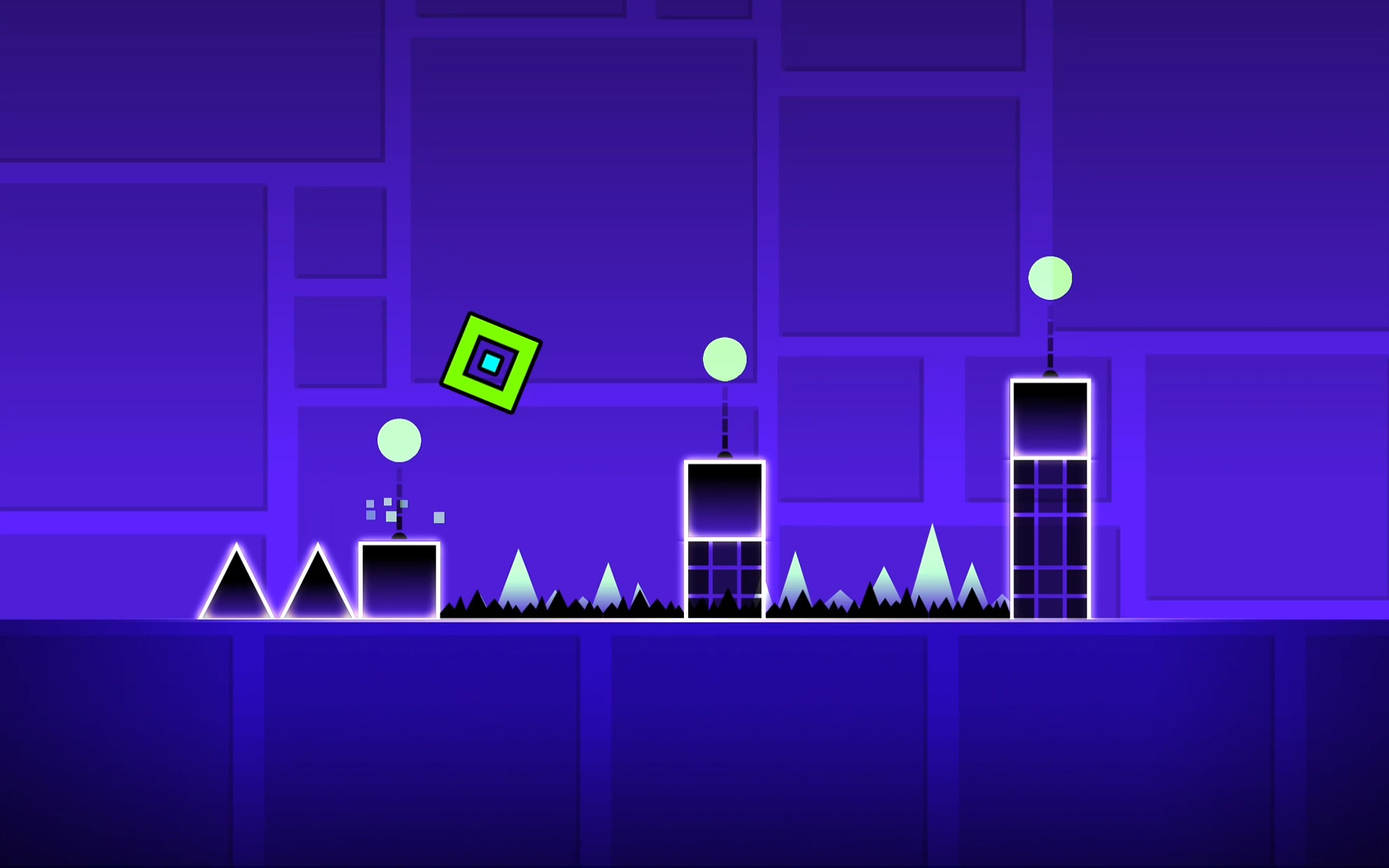Block: (356, 540, 442, 619), (685, 460, 765, 538), (1010, 379, 1090, 456)
Block2: (1011, 458, 1089, 622), (685, 538, 763, 617)
Player: (438, 312, 540, 412)
Spike: (197, 543, 274, 617), (280, 542, 354, 617)
Spike2: (770, 589, 1010, 622), (443, 593, 681, 620)
